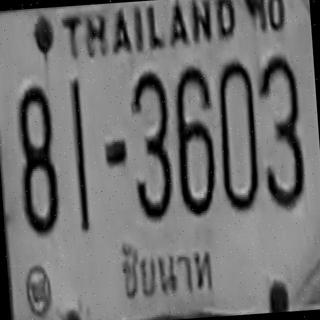N00: (214, 57, 262, 212)
N01: (68, 78, 90, 232)
N03: (256, 52, 306, 208), (127, 68, 175, 220)
N06: (170, 63, 218, 216)
N08: (15, 84, 60, 236)
P08: (110, 234, 219, 306)
